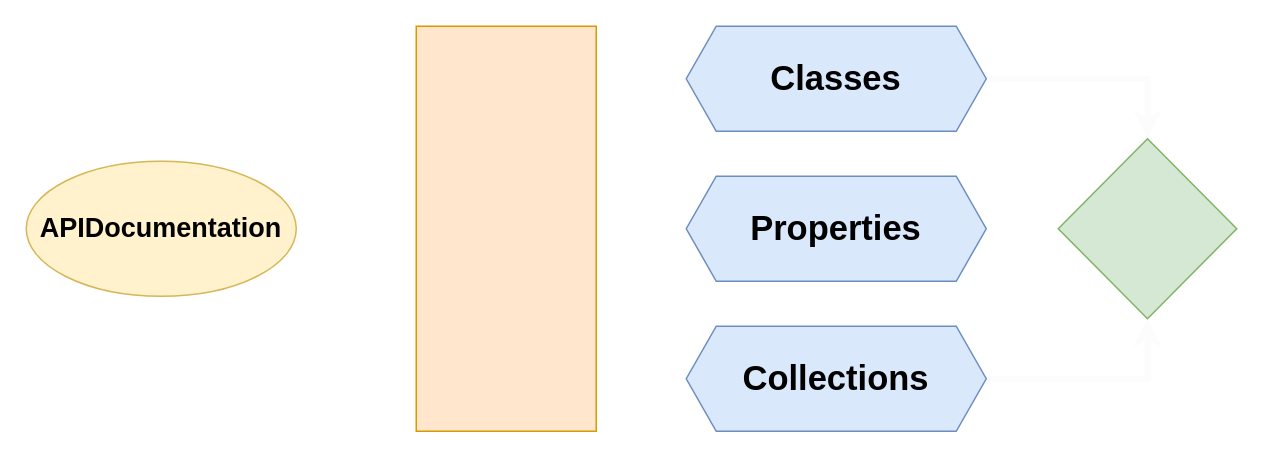
Image size: 1263x458. Some labels were removed from this diagram. The box of each missing label's shape, as (x1, y1, x2, y2) in pixels:
Endpoint: (1057, 137, 1237, 319)
Parser: (415, 25, 596, 431)
